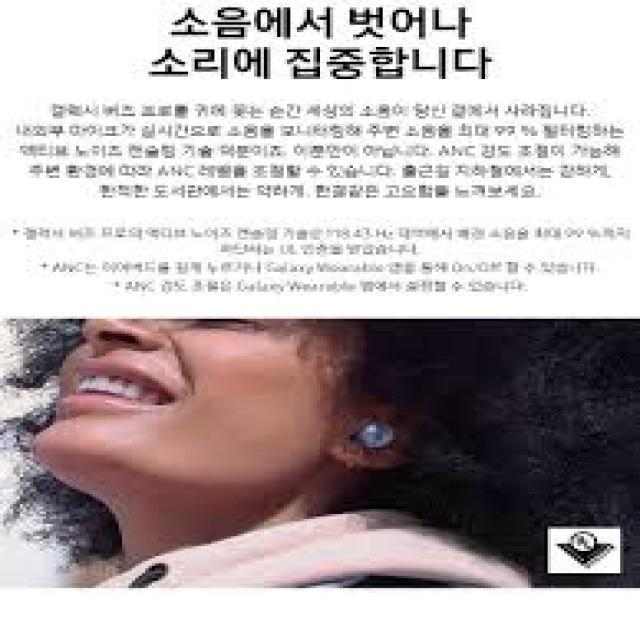earphone: (333, 409, 398, 455)
